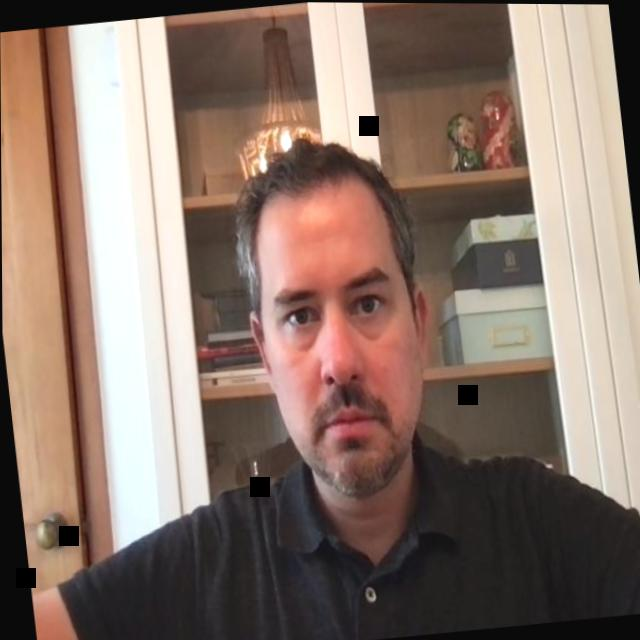NO-Mask: (227, 130, 446, 507)
